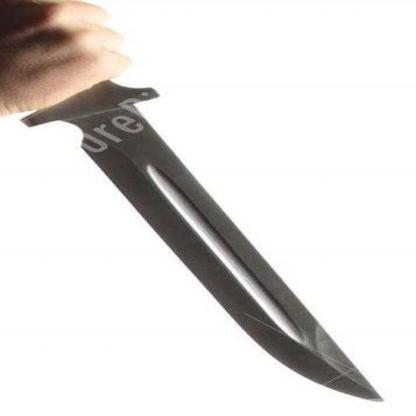Knife: (0, 0, 392, 409)
